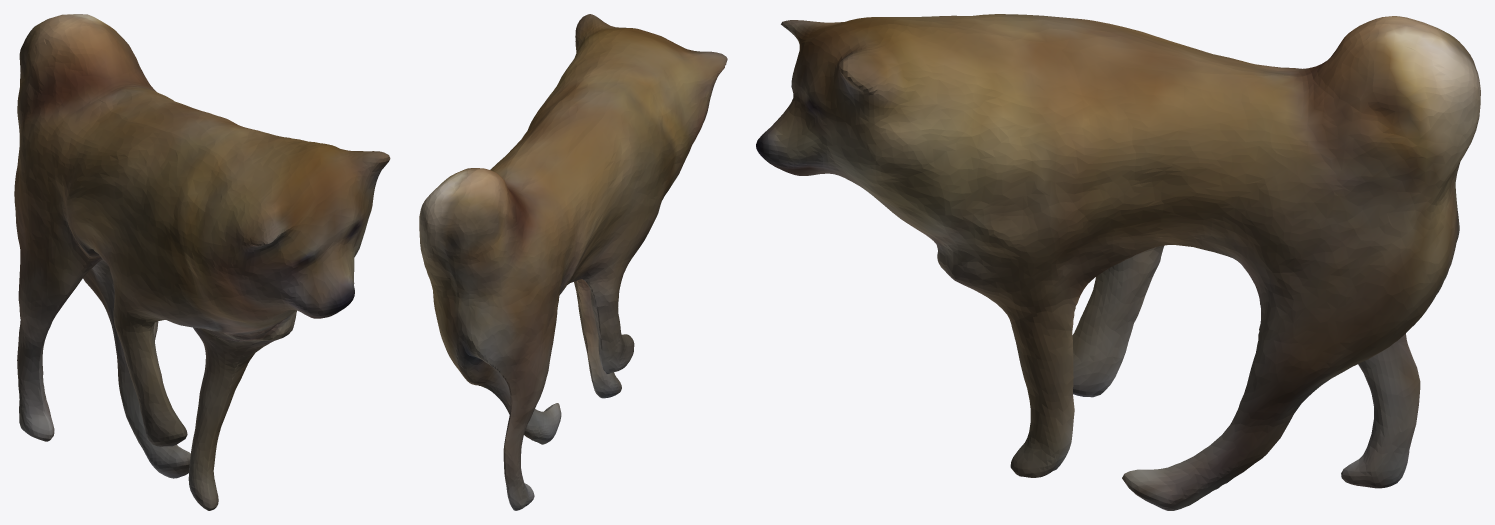
Rendered from shiba-haru-1002-mesh-00019.obj.
3 renders of one model, left to right at view 1: azimuth 30°, elevation 25°; view 2: azimuth 150°, elevation 25°; view 3: azimuth 270°, elevation 25°, orthographic. The views are drawn at different scales.
Bounding box in the file's own units: 0.0315 × 0.0747 × 0.0963.
